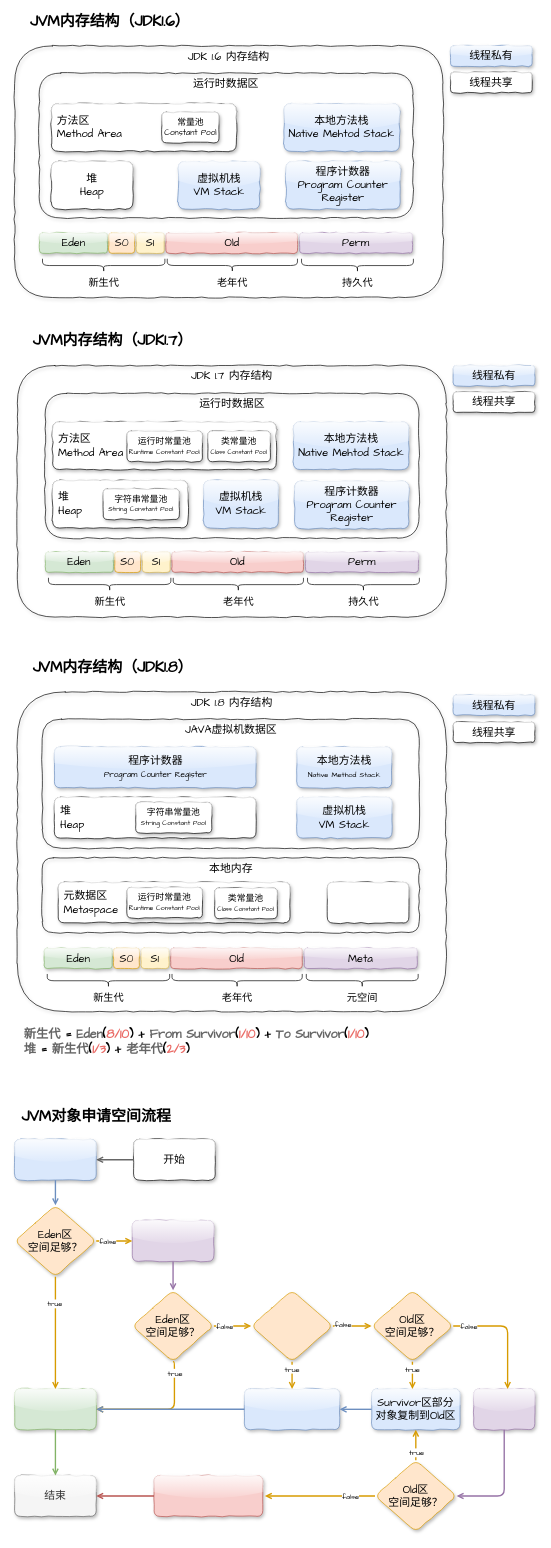
This 551x1548 diagram has some shape labels left out. Each missing label, with the centre of its shape:
Eden区部分对象复制到Survivor区: point 292,1410
Full GC: point 504,1410
new对象 申请内存空间: point 55,1160
Survivor区 空间足够？: point 292,1326
Young GC 回收不活跃对象: point 173,1241
对象空间 申请成功: point 55,1410
抛出 OutofMemoryError: point 209,1496
直接内存 Direct memory: point 368,903
